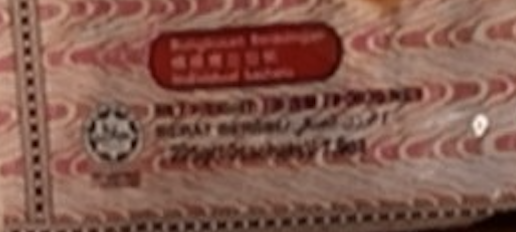halal: (94, 117, 131, 153)
